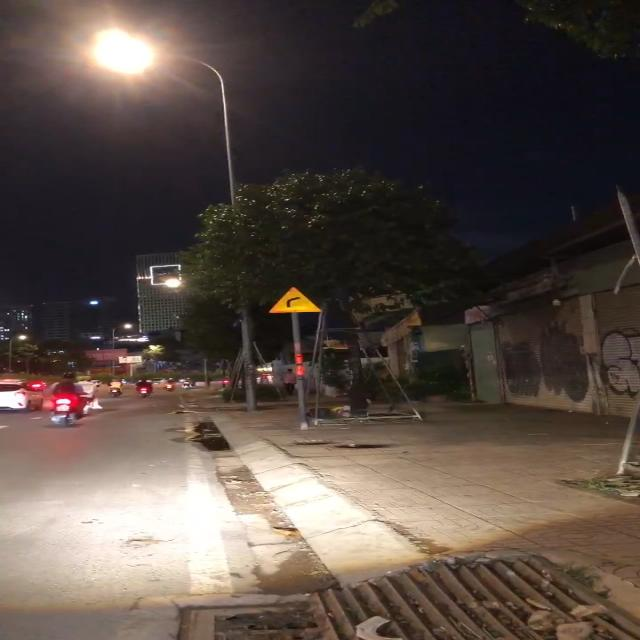Bien bao cho ngoat nguy hiem: (264, 284, 328, 316)
